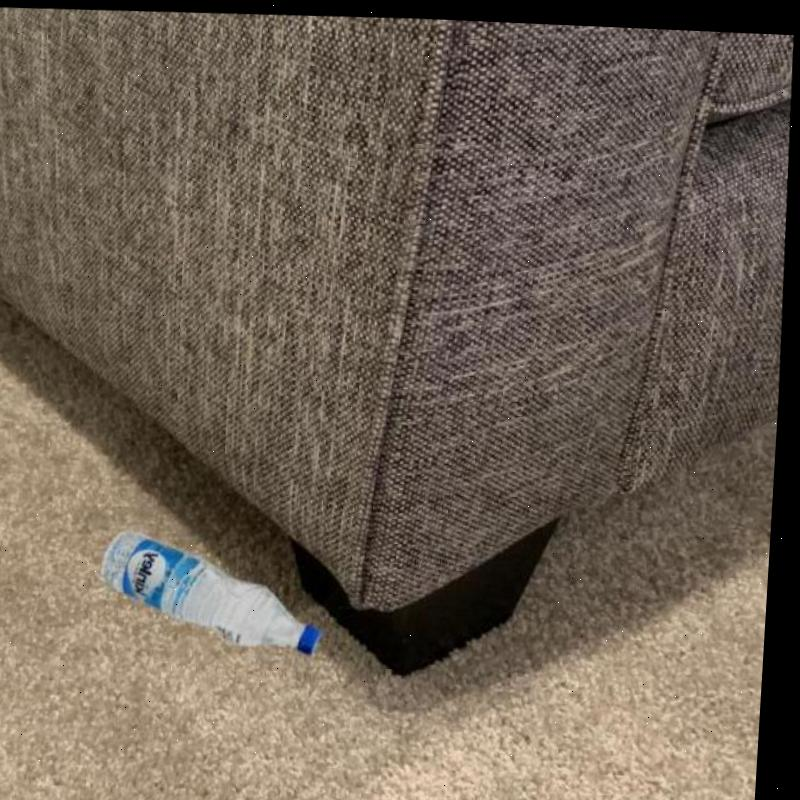botella: (104, 521, 336, 653)
